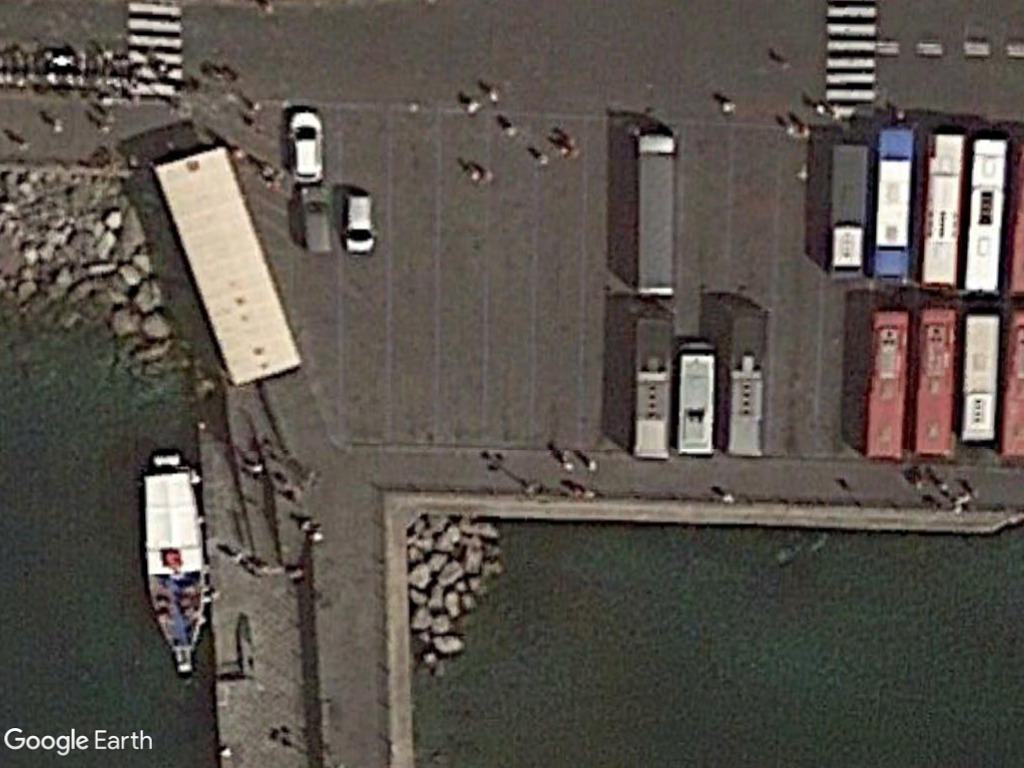boat: (135, 448, 216, 681)
bus: (915, 123, 971, 295), (865, 119, 921, 284), (962, 129, 1015, 296), (723, 304, 775, 463), (864, 302, 912, 463), (630, 297, 674, 463), (914, 301, 958, 465), (828, 134, 872, 279), (959, 305, 1003, 449), (677, 334, 720, 462)
car: (283, 103, 326, 188), (341, 186, 384, 260)
longvehicle: (630, 124, 684, 304)
